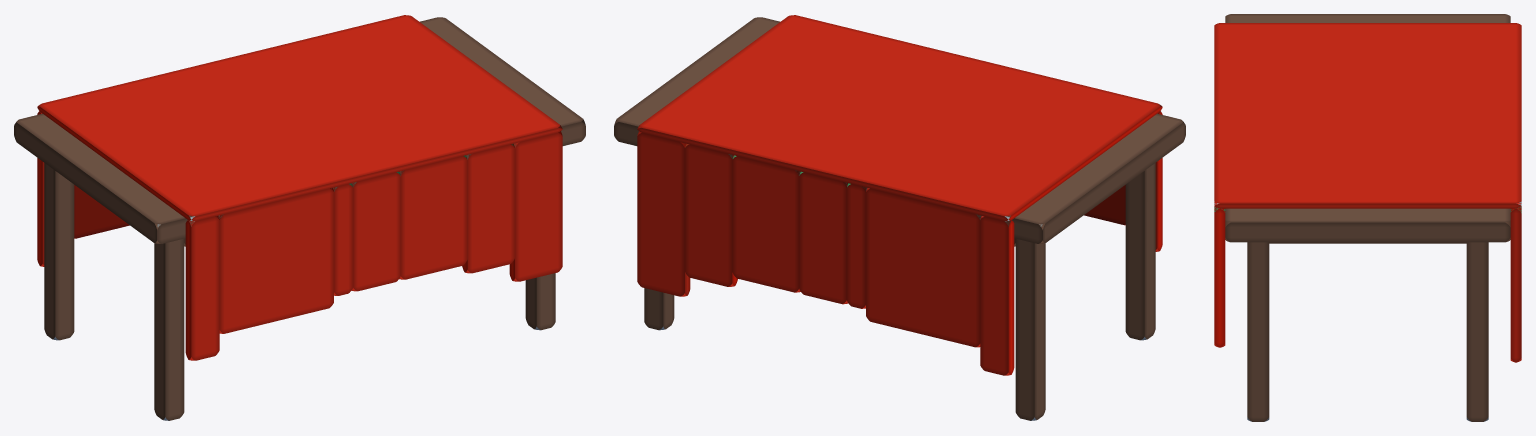
File: mesa (1).fbx
The picture shows the model from 3 angles, left to right: view 1: azimuth 30°, elevation 25°; view 2: azimuth 150°, elevation 25°; view 3: azimuth 270°, elevation 25°; orthographic projection.
Visible parts, largest first — view 1: cube, cube_1; view 2: cube, cube_1; view 3: cube, cube_1.
Boxes of the visible parts, bbox=[...] form: cube: bbox=[37, 15, 562, 360]; cube_1: bbox=[14, 17, 585, 420]; cube: bbox=[637, 15, 1162, 375]; cube_1: bbox=[614, 17, 1185, 420]; cube: bbox=[1214, 23, 1521, 362]; cube_1: bbox=[1225, 14, 1510, 421].
Bounding box in the file's own units: 281 × 134 × 175.
Materials: 2 (2 with a texture image).
